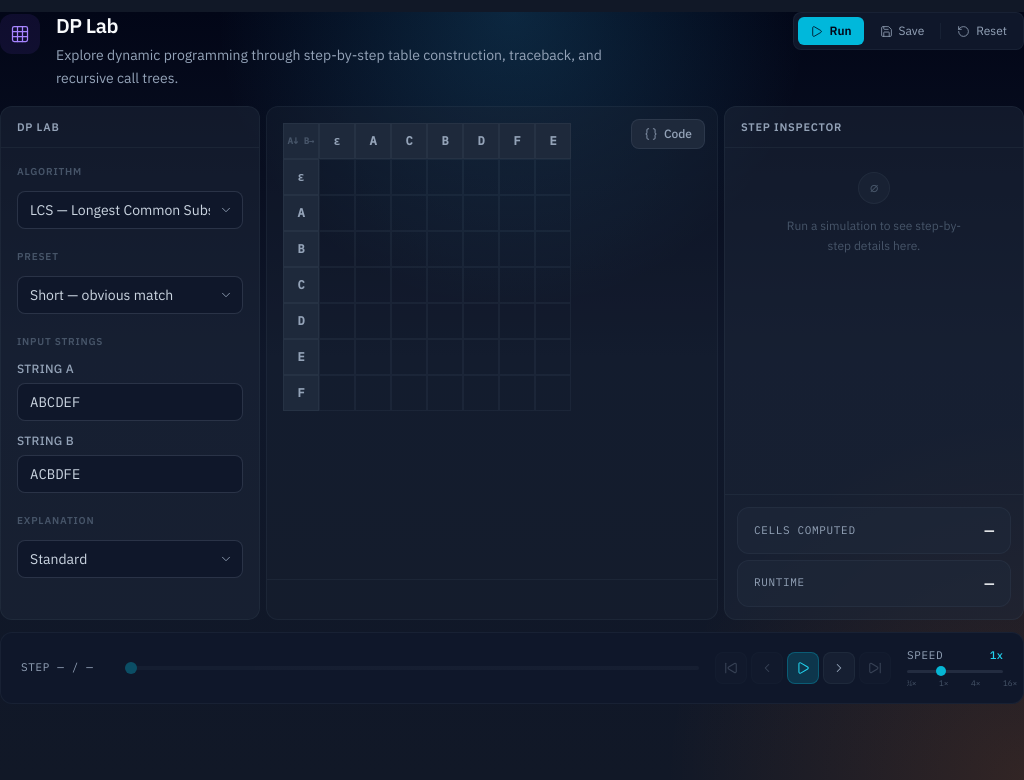
Test: DpLabPage — fibonacci preset integration › selects a different fibonacci preset and updates n
Check: the field named "String A" holds "ABCDEF", box [17,383,243,421]
// Switch to fibonacci and let all async effects settle
Select "Fibonacci Variants" in the dropdown named "Algorithm" at (130, 210), box [17,191,243,229]
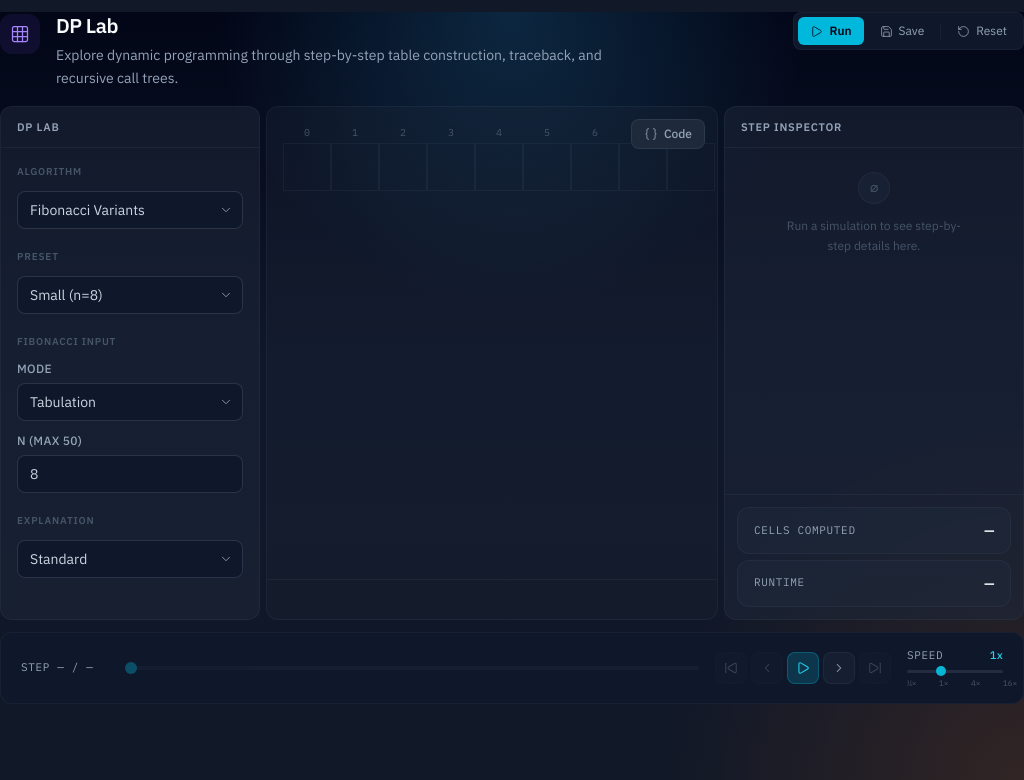
Check: the number field named "n" holds "8", box [17,455,243,493]
Select "Medium (n=15)" in the dropdown named "Preset" at (130, 295), box [17,276,243,314]
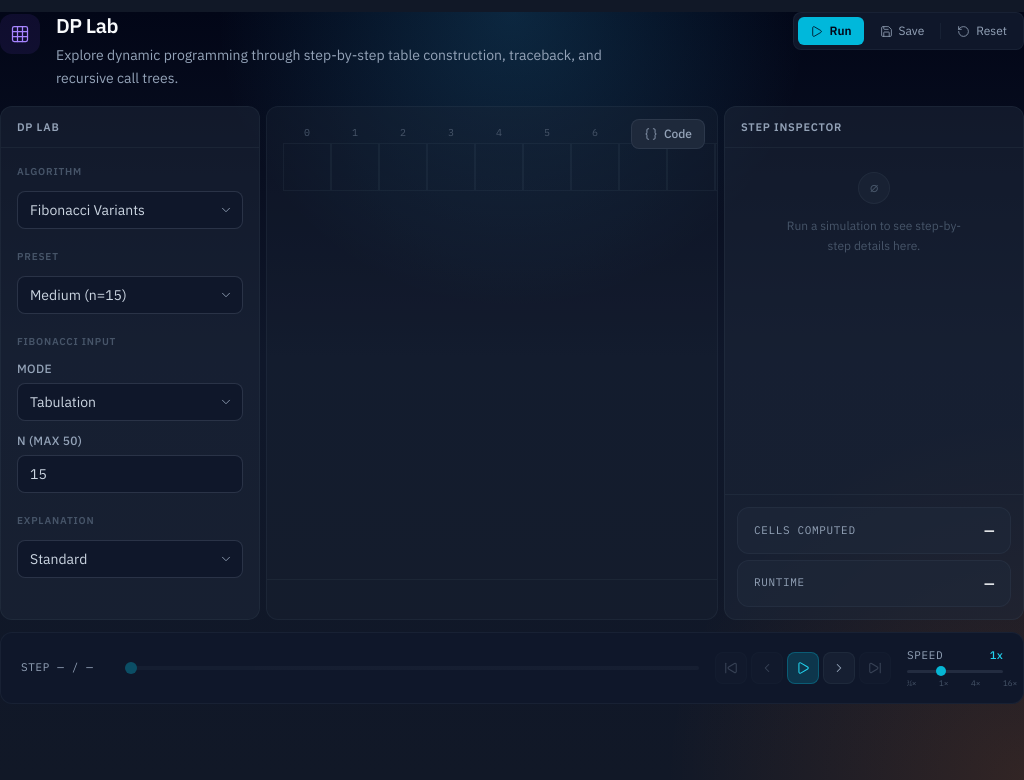
Check: the number field named "n" holds "15", box [17,455,243,493]
